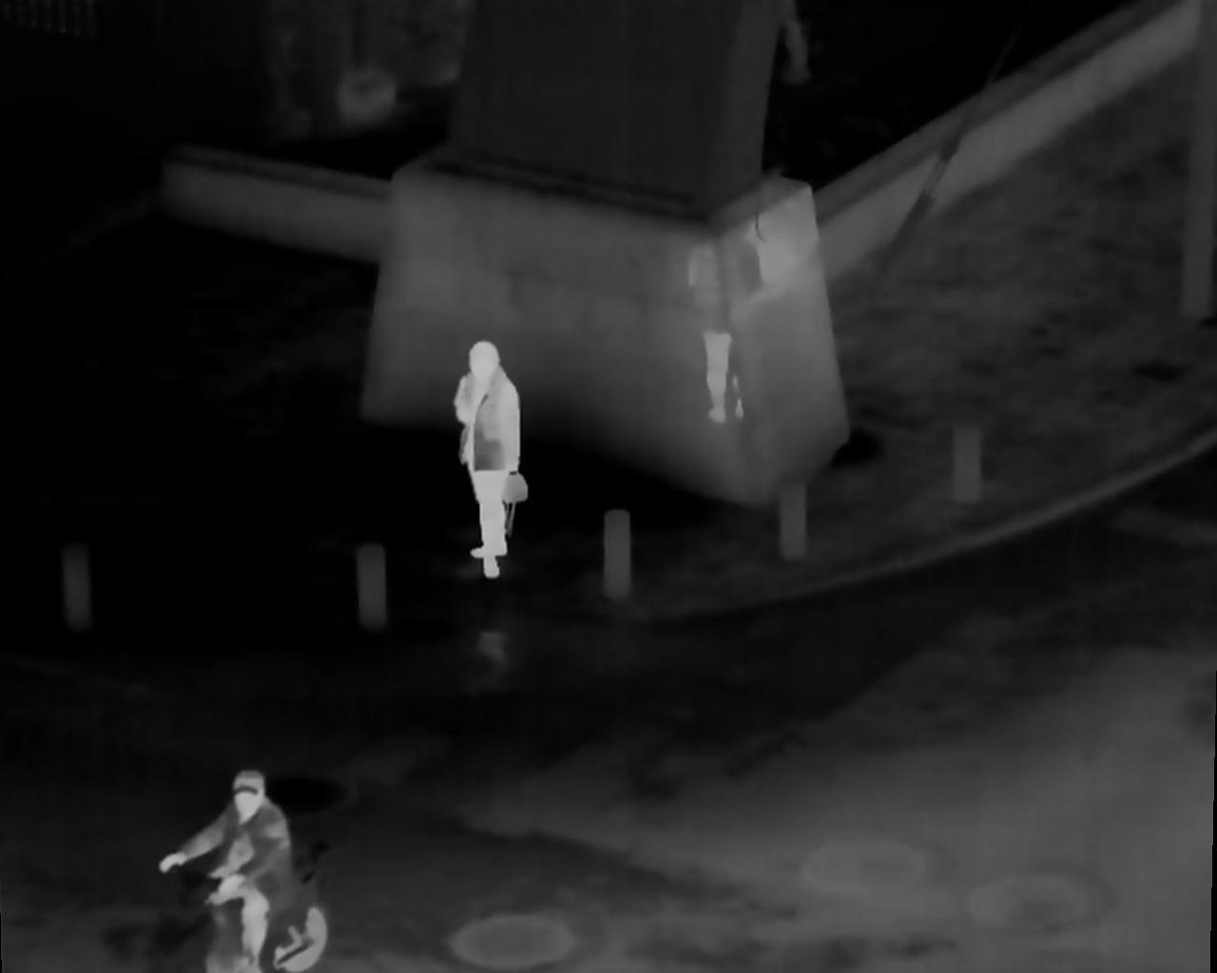person: (151, 772, 319, 972), (456, 334, 522, 578)
